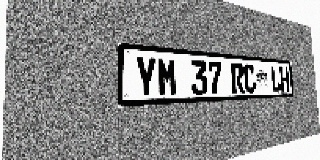3: (190, 60, 208, 95)
7: (207, 61, 223, 94)
C: (243, 64, 256, 93)
H: (279, 67, 289, 92)
L: (270, 66, 281, 92)
M: (157, 57, 178, 96)
R: (231, 63, 244, 94)
Y: (134, 56, 157, 97)
